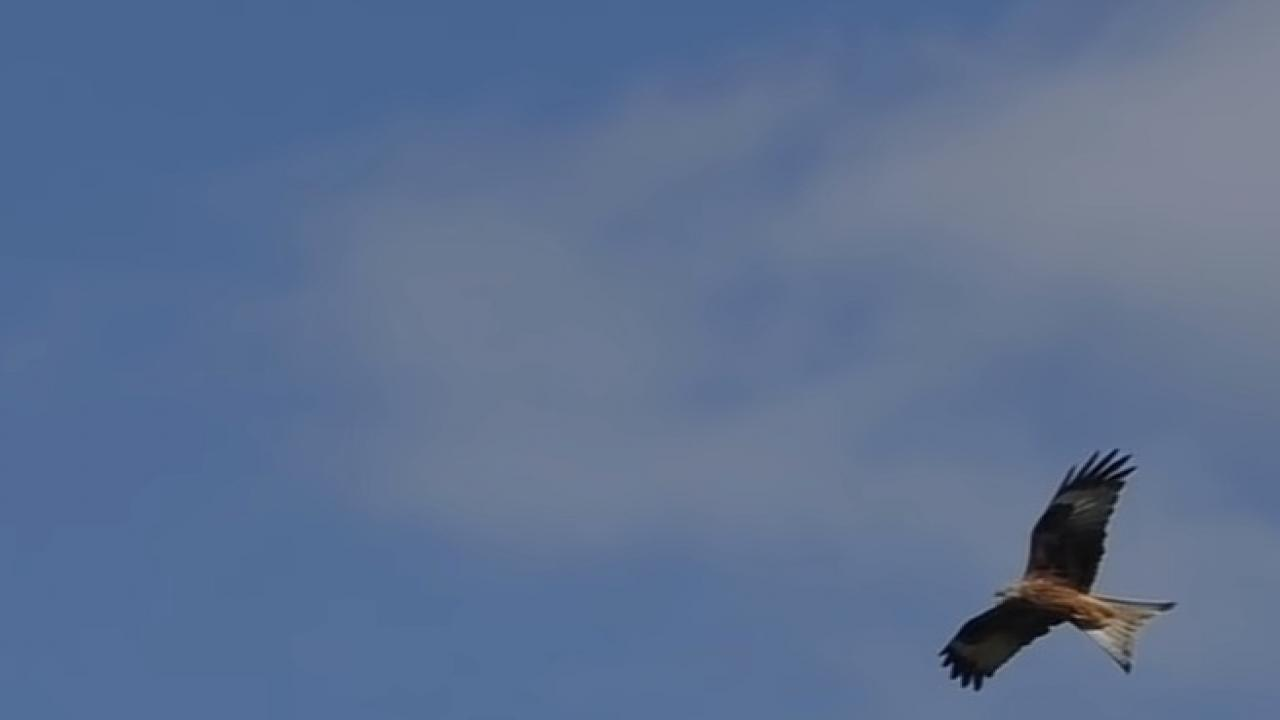Bird: (927, 441, 1190, 696)
